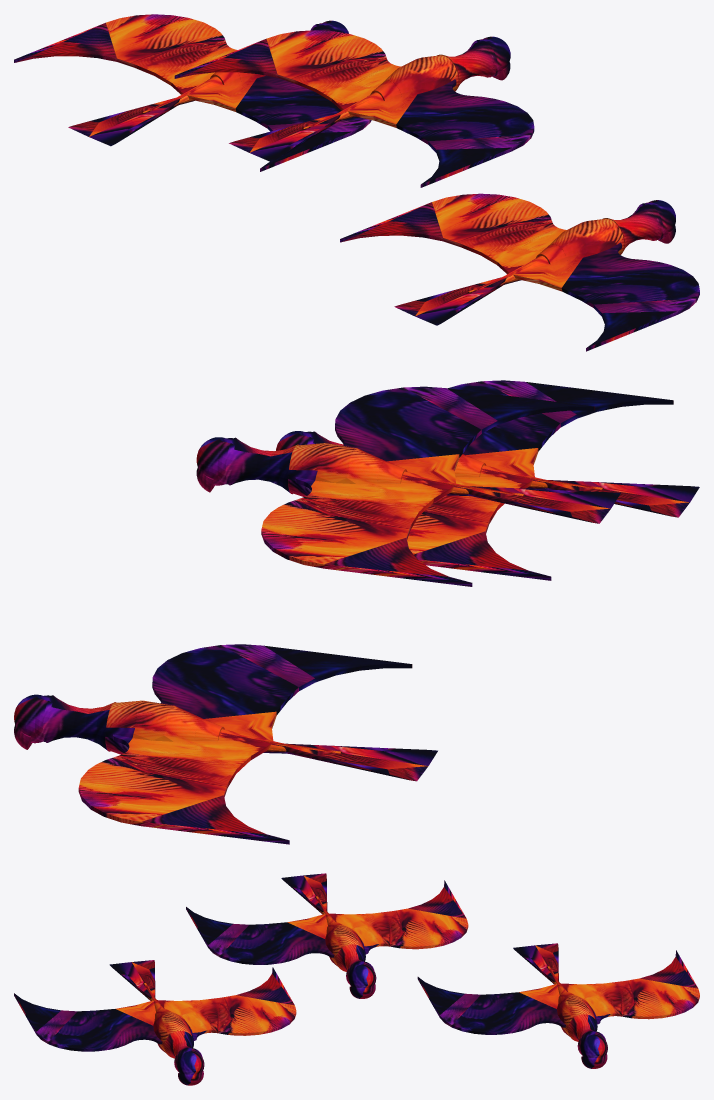
The model's file is guacamaya.obj.
3 renders of one model, top to bottom at view 1: azimuth 30°, elevation 25°; view 2: azimuth 150°, elevation 25°; view 3: azimuth 270°, elevation 25°, orthographic. The views are drawn at different scales.
Parts seen in each view (by area): view 1: node_id3, node_id3_002, node_id3_001; view 2: node_id3_001, node_id3, node_id3_002; view 3: node_id3_002, node_id3_001, node_id3.
Part boxes in pixels (x1,y1,x2,y2): node_id3: (174, 30, 534, 187); node_id3_002: (340, 193, 699, 351); node_id3_001: (14, 14, 371, 171); node_id3_001: (14, 644, 437, 844); node_id3: (196, 386, 620, 586); node_id3_002: (276, 380, 699, 580); node_id3_002: (14, 960, 296, 1085); node_id3_001: (417, 943, 699, 1068); node_id3: (186, 873, 468, 998).
Bounding box in the file's own units: 0.6059 × 0.2313 × 1.34.
1 material, 1 textured.
